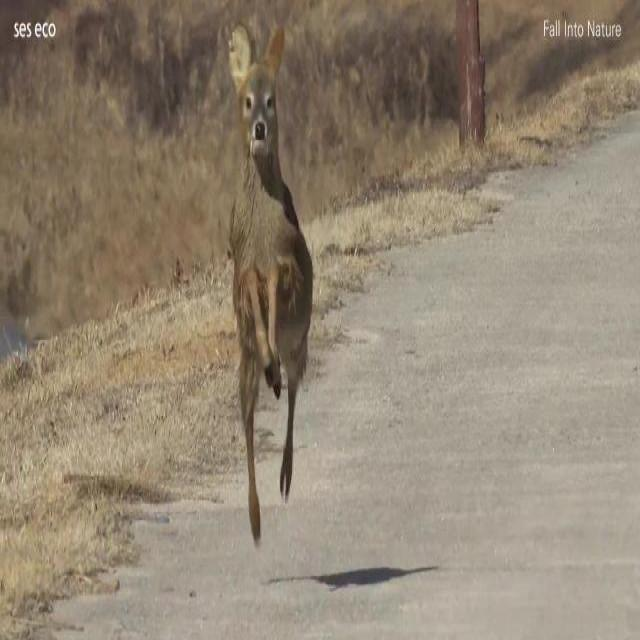deer: (224, 19, 314, 553)
